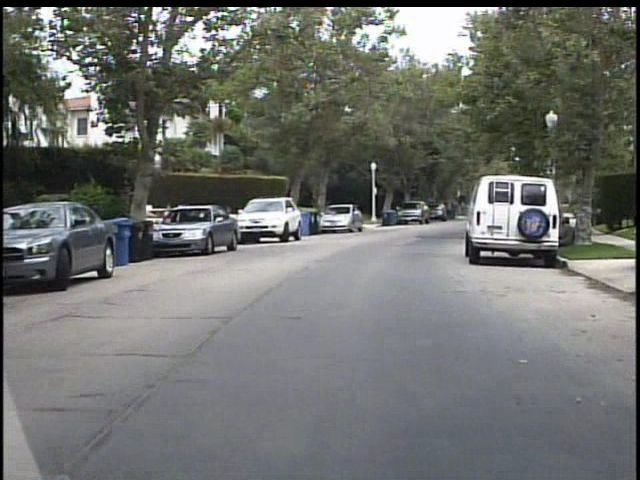person: (558, 217, 579, 252)
